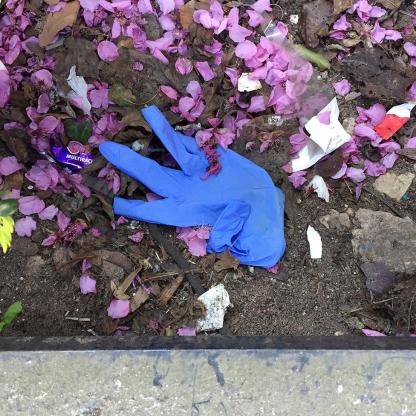with_gloves: (94, 104, 293, 278)
